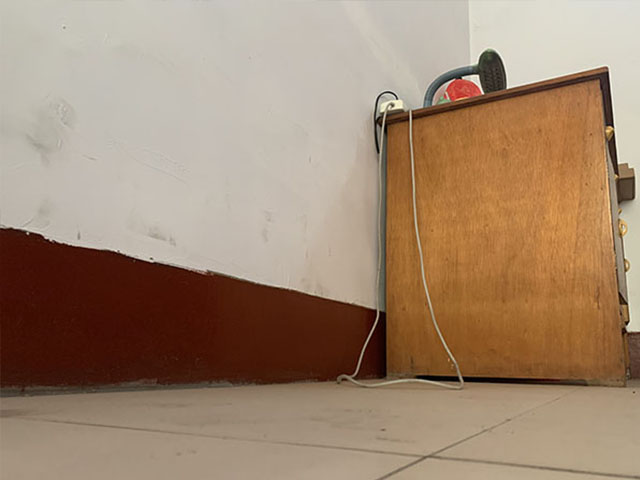cabinet: (377, 65, 629, 388)
wire: (340, 86, 468, 390)
